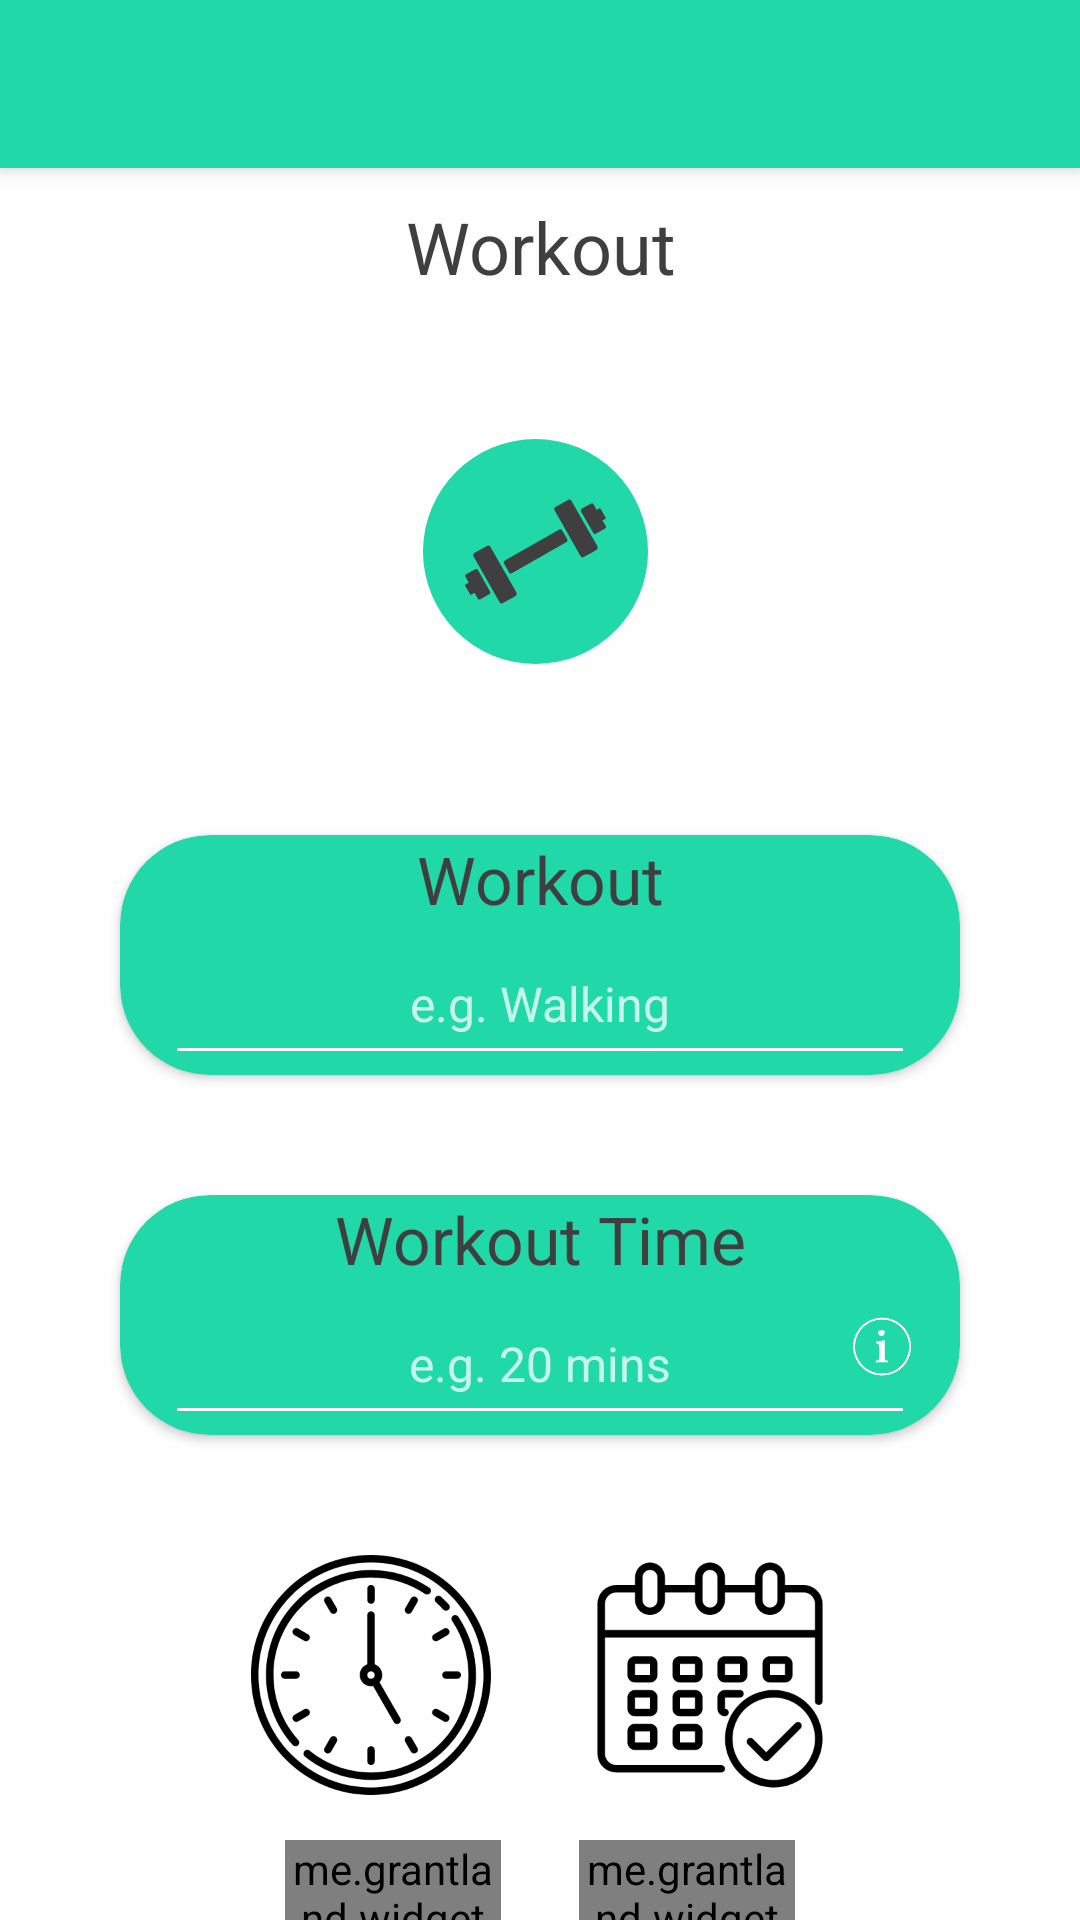

Locate icon controls on the screen. Image size 1080*1920, boxes as (x1=x1, y1=y1, x2=x2, y2=y2).
calendar: (x1=597, y1=1562, x2=823, y2=1788)
clock: (x1=251, y1=1555, x2=491, y2=1795)
info circle: (x1=853, y1=1317, x2=911, y2=1376)
overview exercise: (x1=423, y1=439, x2=648, y2=664)
